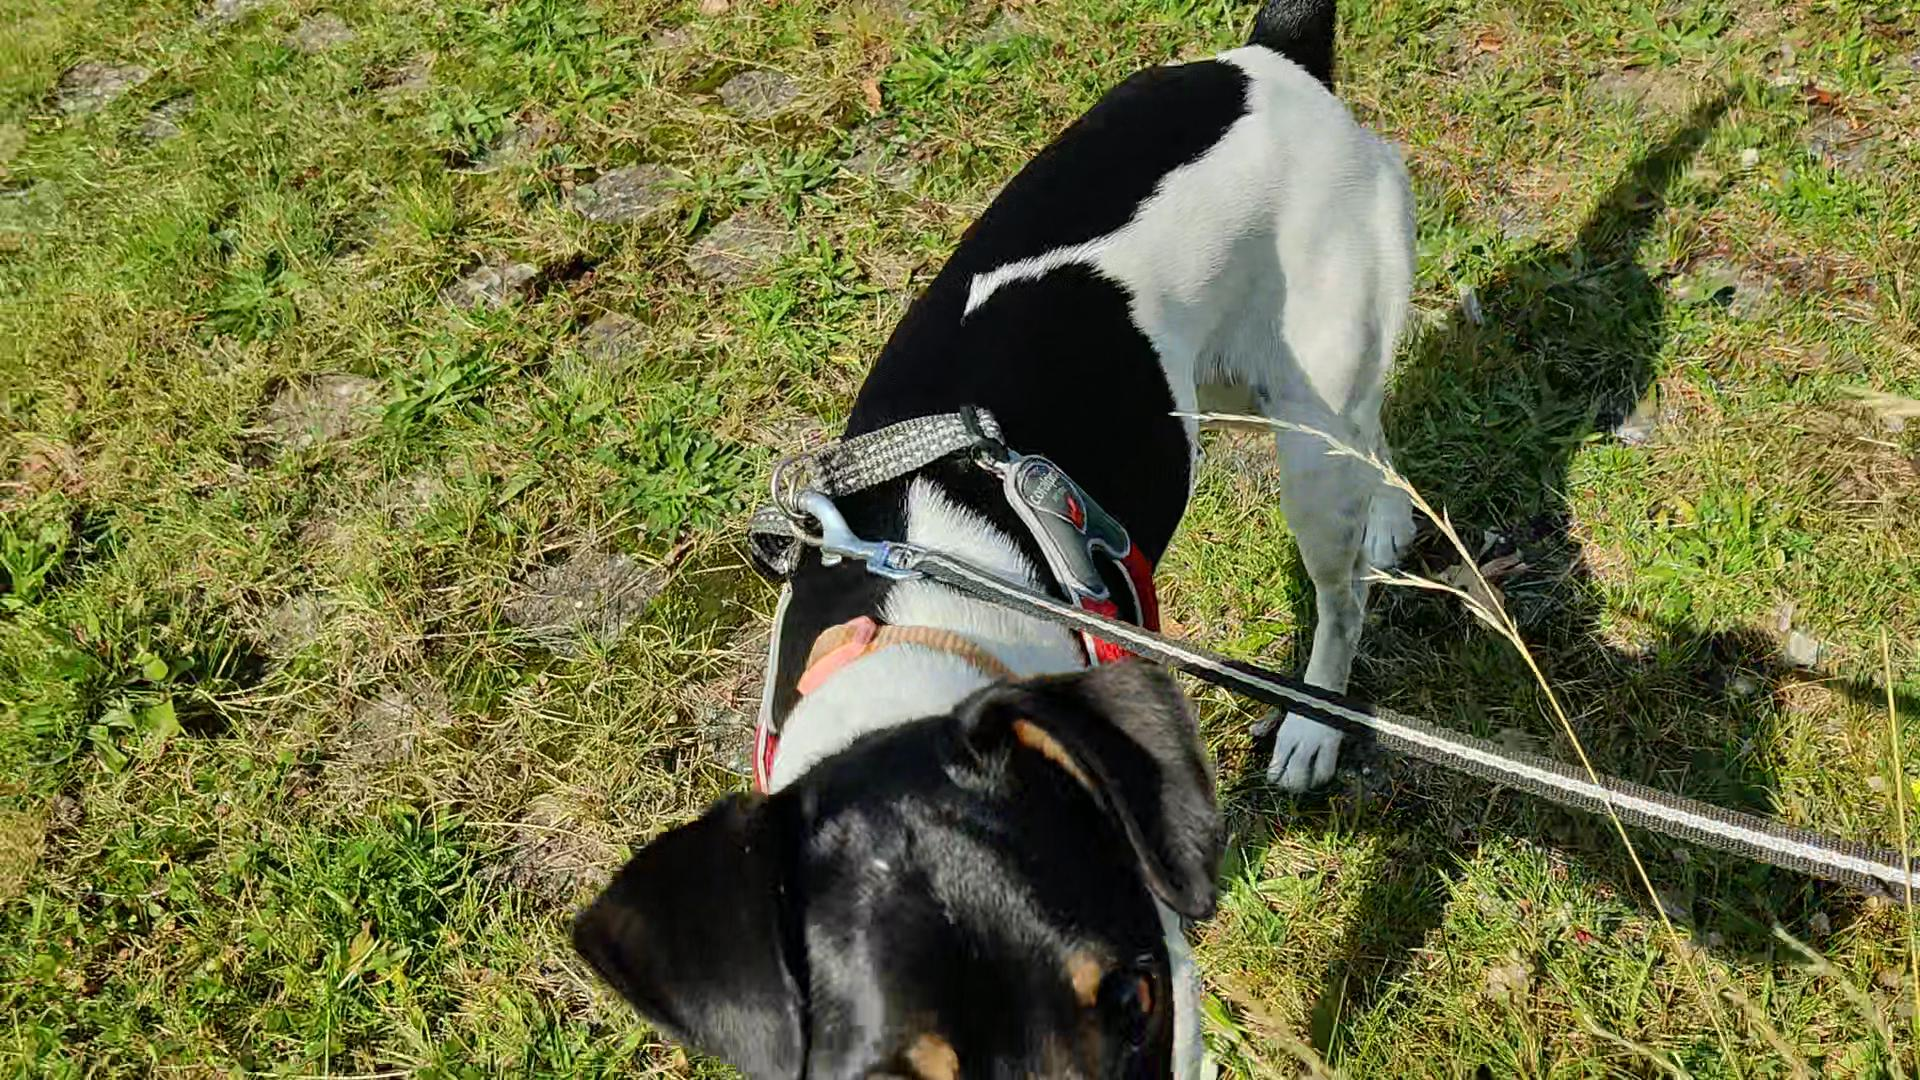Dog: (554, 0, 1425, 1079)
